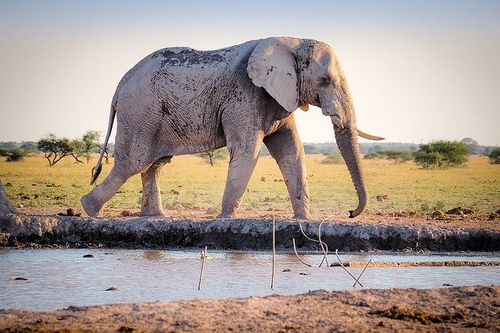elephant: (79, 37, 384, 221)
